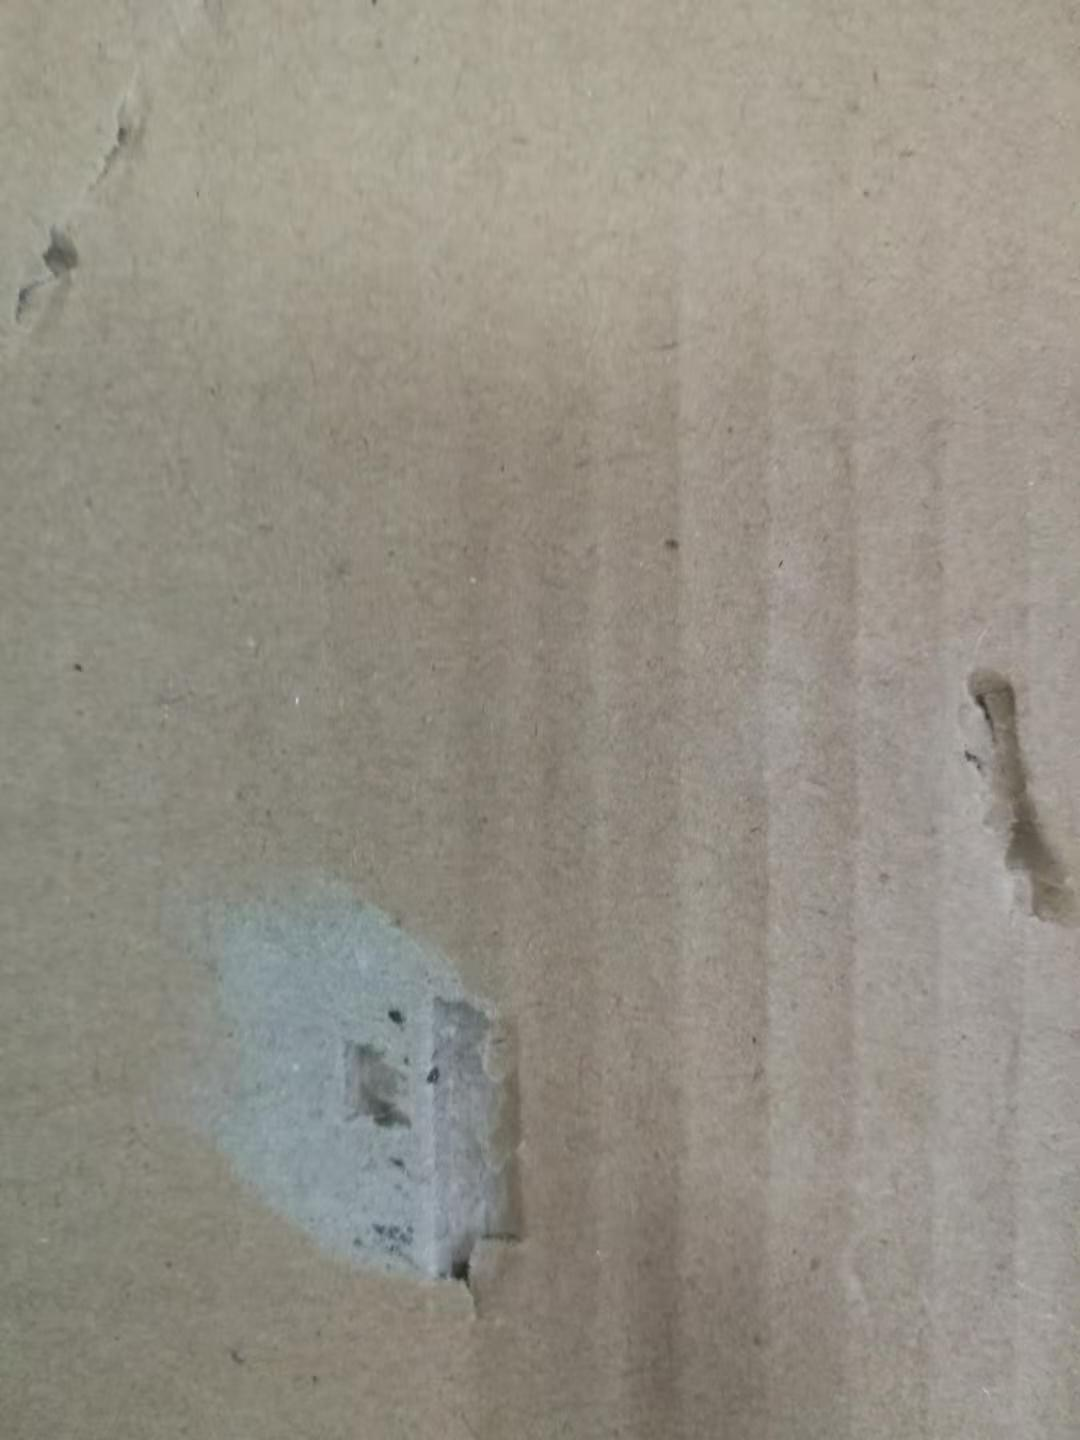defect: (91, 839, 568, 1336), (2, 5, 220, 382), (917, 627, 1080, 971)
